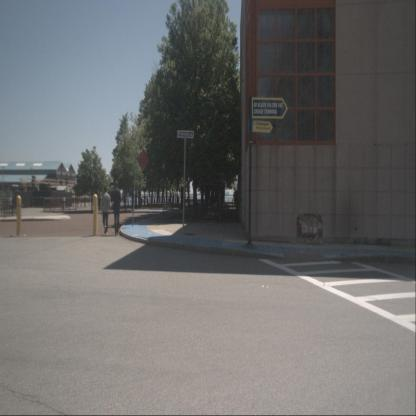human-pedestrian-adult: (110, 181, 122, 236), (100, 188, 111, 236)
